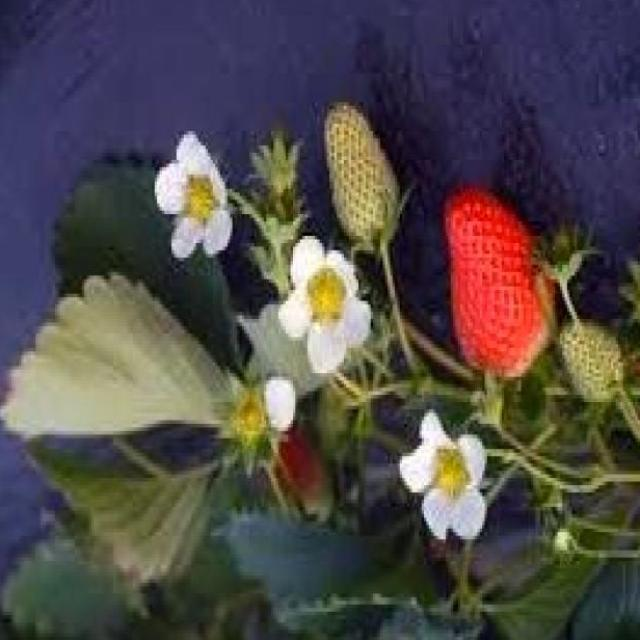Healthy Fruit: (441, 185, 556, 383), (325, 99, 399, 241)
